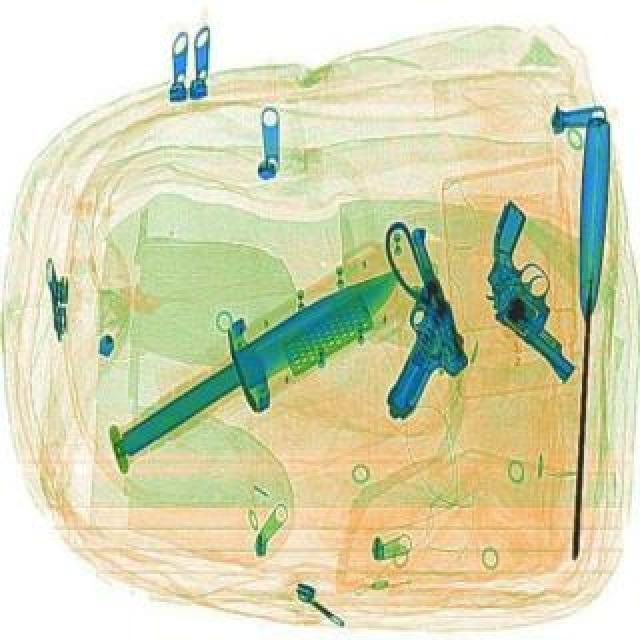gun: (432, 194, 636, 382), (330, 224, 482, 422)
knife: (106, 254, 410, 464), (562, 116, 610, 556)
